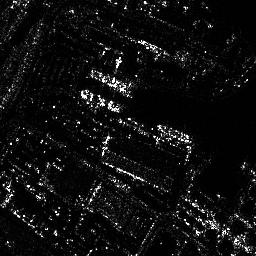ship: (80, 88, 121, 113)
